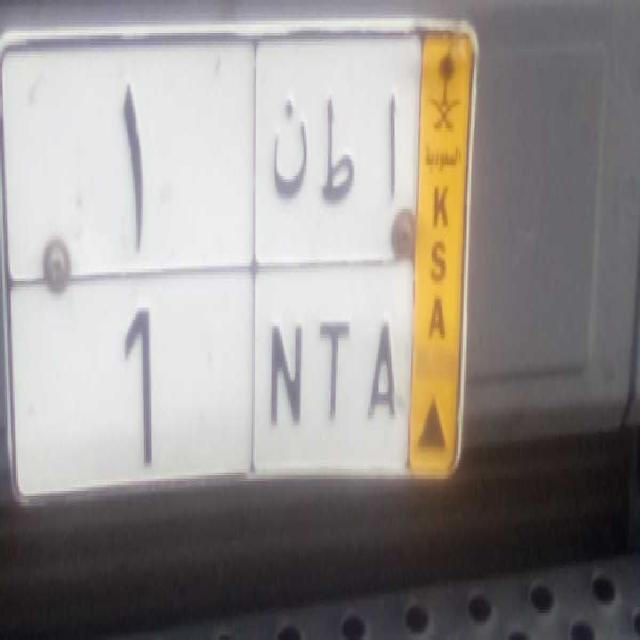license_plate: (9, 260, 414, 487)
